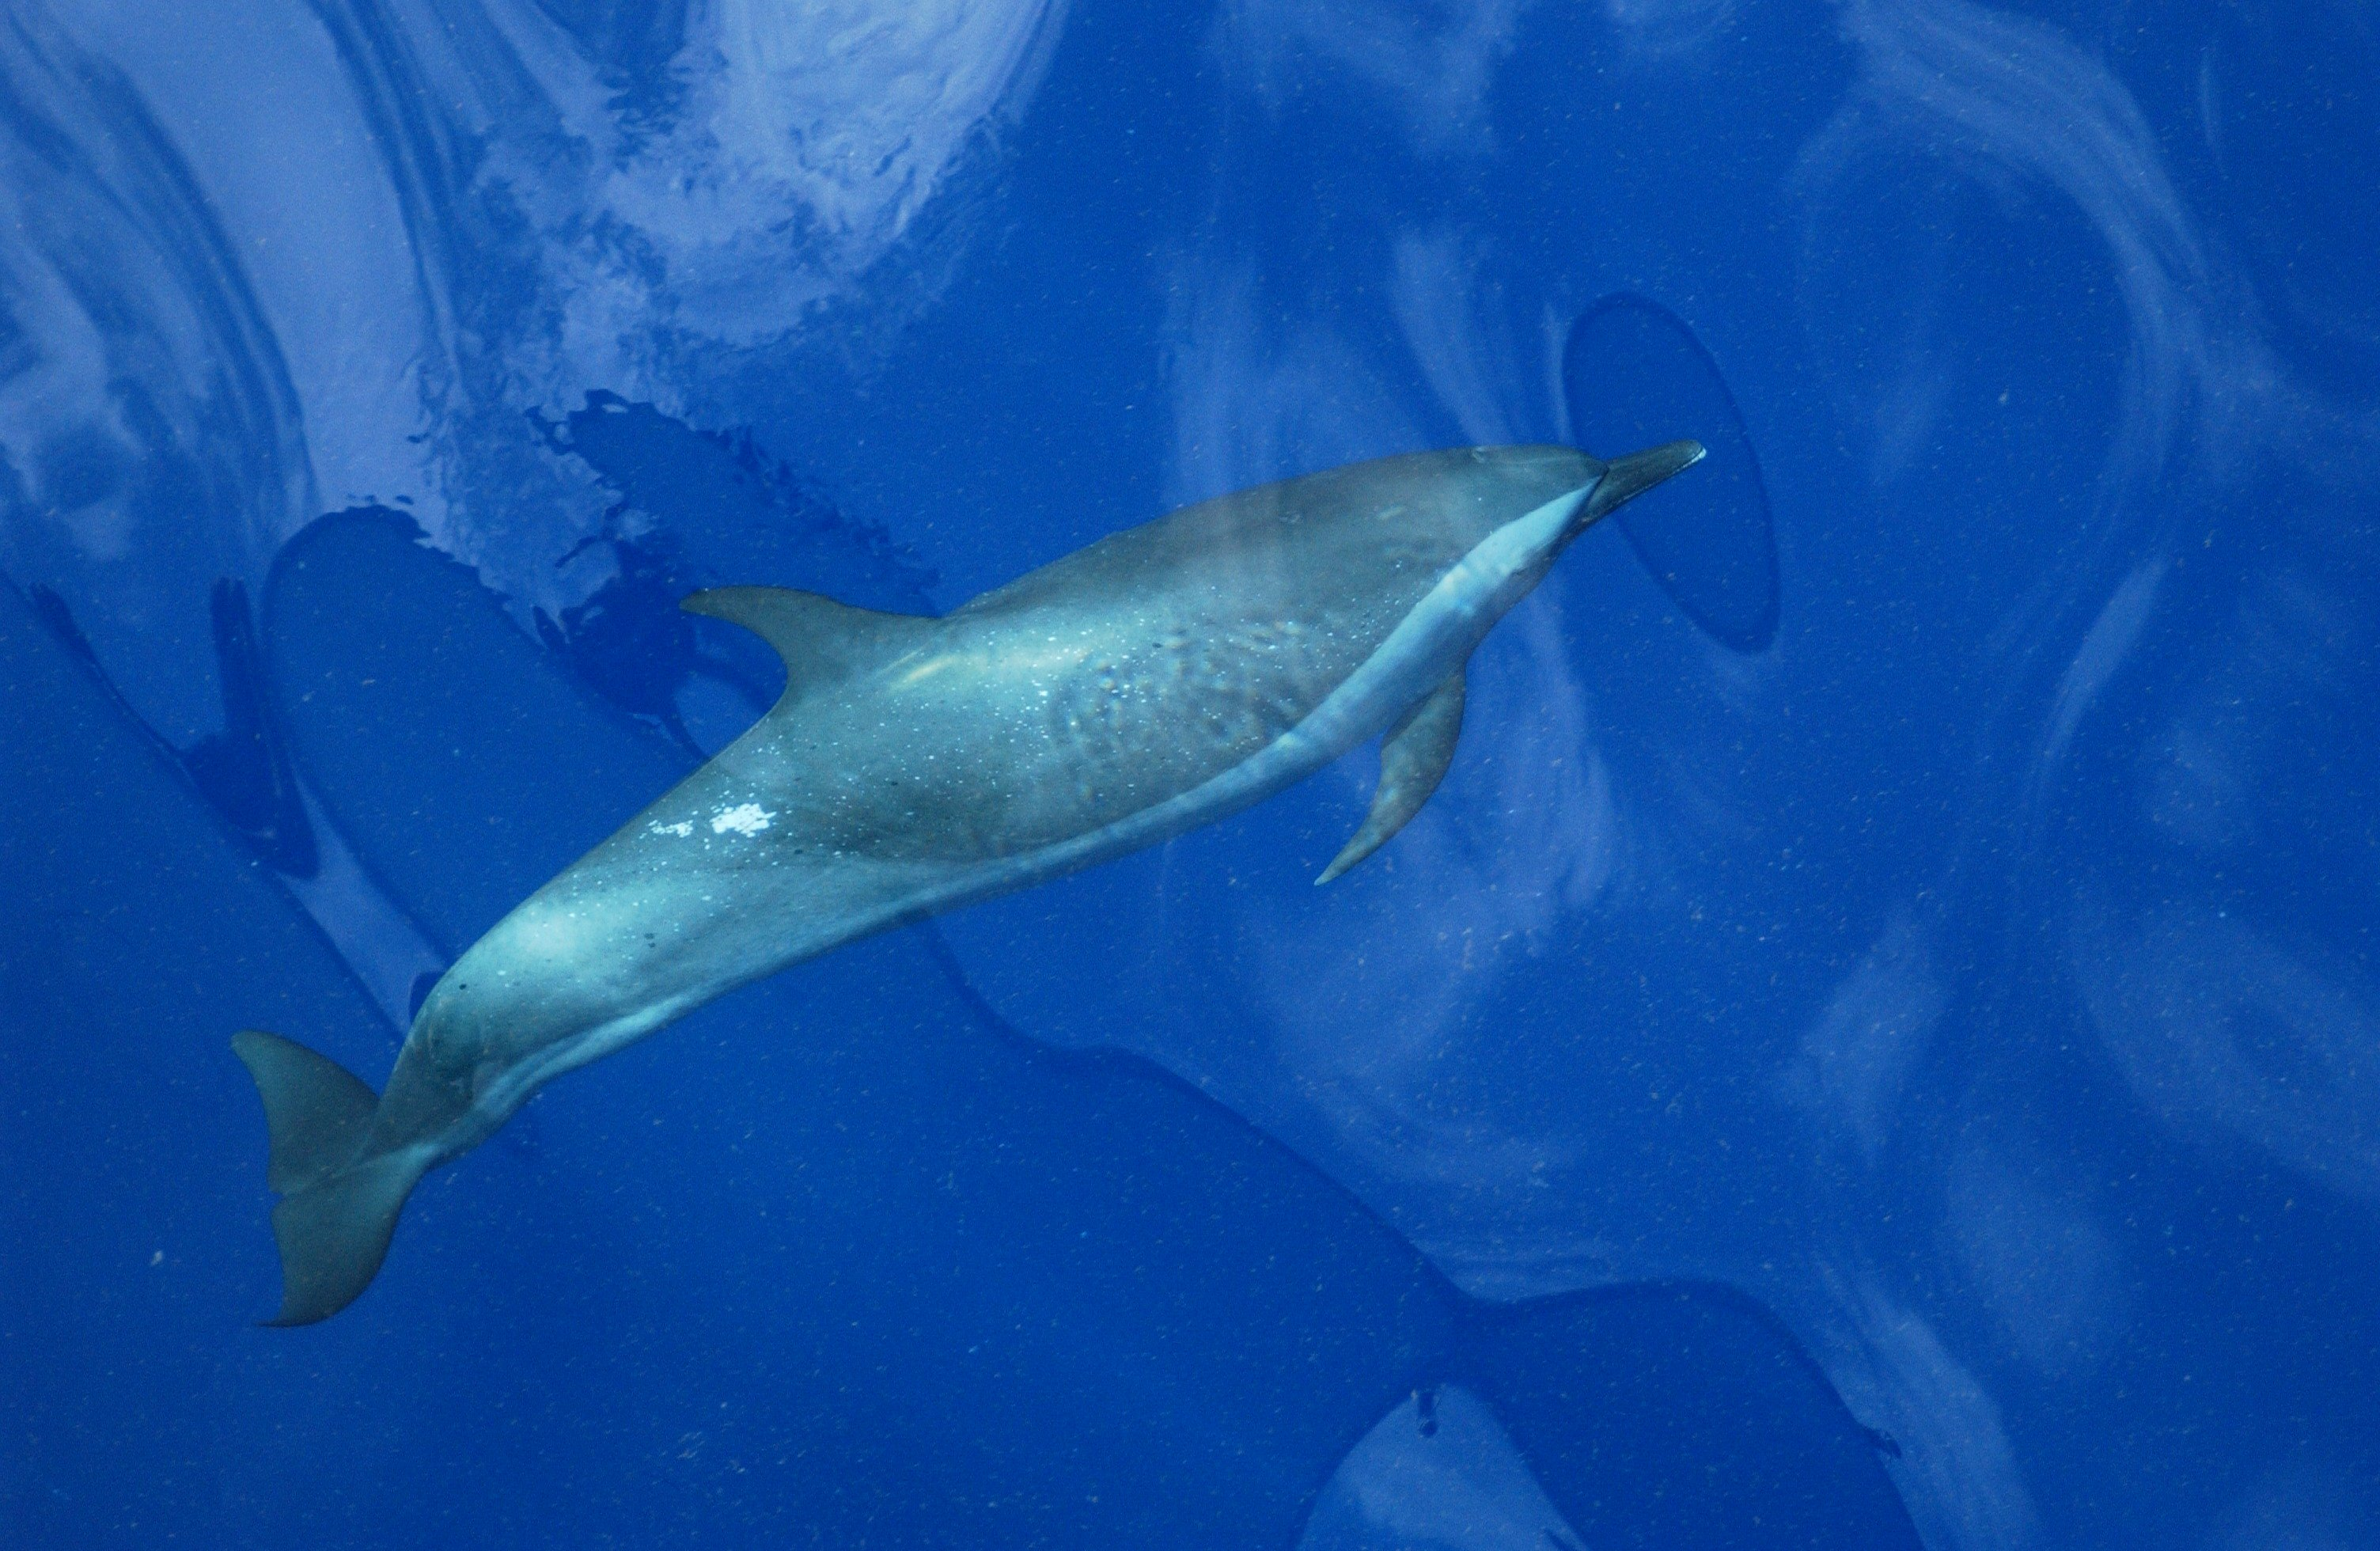dolphin: (232, 434, 1707, 1334)
